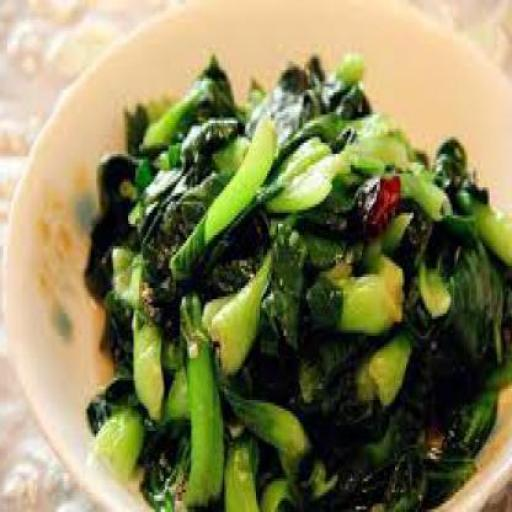biodegradable: (172, 106, 281, 274), (219, 356, 340, 501), (274, 106, 420, 210), (408, 237, 502, 389), (328, 394, 423, 509), (433, 134, 511, 273), (85, 145, 150, 303), (306, 241, 408, 339), (125, 62, 234, 148), (186, 277, 226, 503), (214, 238, 272, 380), (249, 50, 325, 143), (371, 132, 447, 224), (290, 330, 364, 408), (274, 210, 344, 291), (440, 375, 499, 458), (96, 400, 150, 481), (382, 198, 430, 277), (304, 56, 368, 115), (136, 308, 168, 414), (486, 273, 511, 404), (422, 450, 480, 506), (351, 168, 400, 234), (260, 291, 306, 361), (226, 428, 265, 510), (89, 364, 137, 425), (115, 238, 156, 308), (102, 288, 134, 374), (161, 350, 191, 422), (261, 467, 306, 509)
